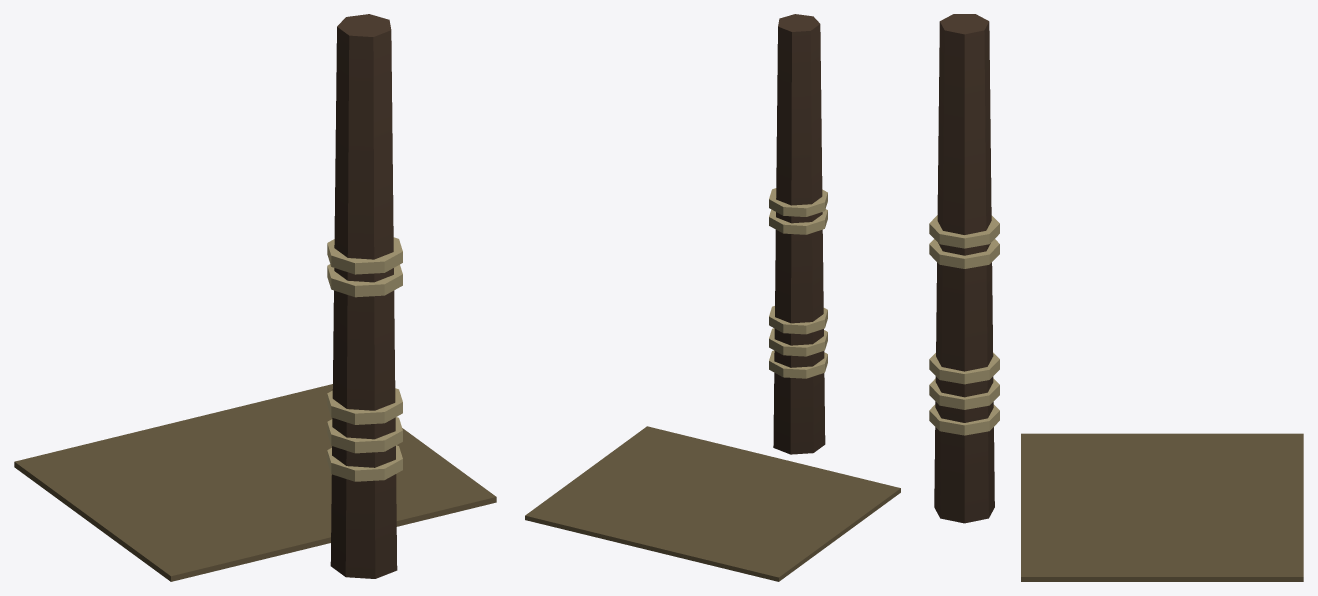
File: fr_post.glb
3 renders of one model, left to right at view 1: azimuth 30°, elevation 25°; view 2: azimuth 150°, elevation 25°; view 3: azimuth 270°, elevation 25°, orthographic. The views are drawn at different scales.
Visible parts, largest first — view 1: fr_post; view 2: fr_post; view 3: fr_post.
Part boxes in pixels (x1,y1,x2,y2): fr_post: [14, 14, 496, 581]; fr_post: [525, 14, 900, 581]; fr_post: [929, 14, 1303, 581].
Bounding box in the file's own units: 1.2 × 1.9 × 1.33.
